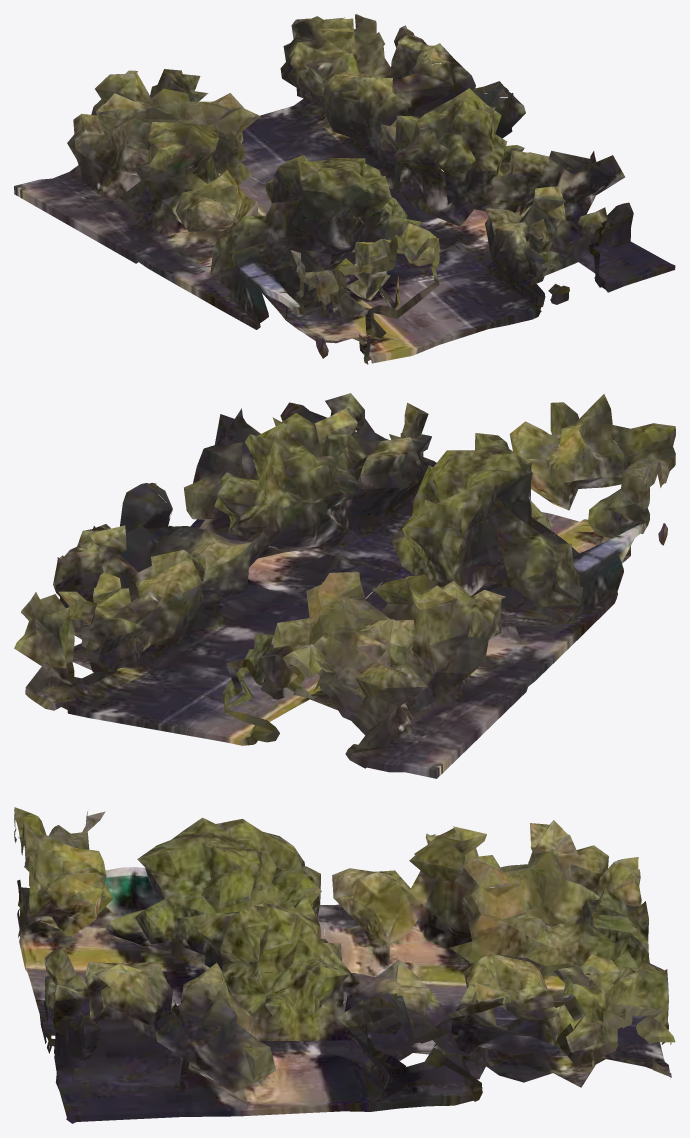
The picture shows the model from 3 angles, top to bottom: view 1: azimuth 30°, elevation 25°; view 2: azimuth 150°, elevation 25°; view 3: azimuth 270°, elevation 25°; orthographic projection. The views are drawn at different scales.
Visible parts, largest first — view 1: Mesh_0; view 2: Mesh_0; view 3: Mesh_0.
Part boxes in pixels (<box>): Mesh_0: <box>14,14,675,364</box>; Mesh_0: <box>14,393,675,778</box>; Mesh_0: <box>14,807,675,1123</box>.
Size of the model in its own units: 66.58 by 21.73 by 82.56.
Materials: 1 (1 with a texture image).
